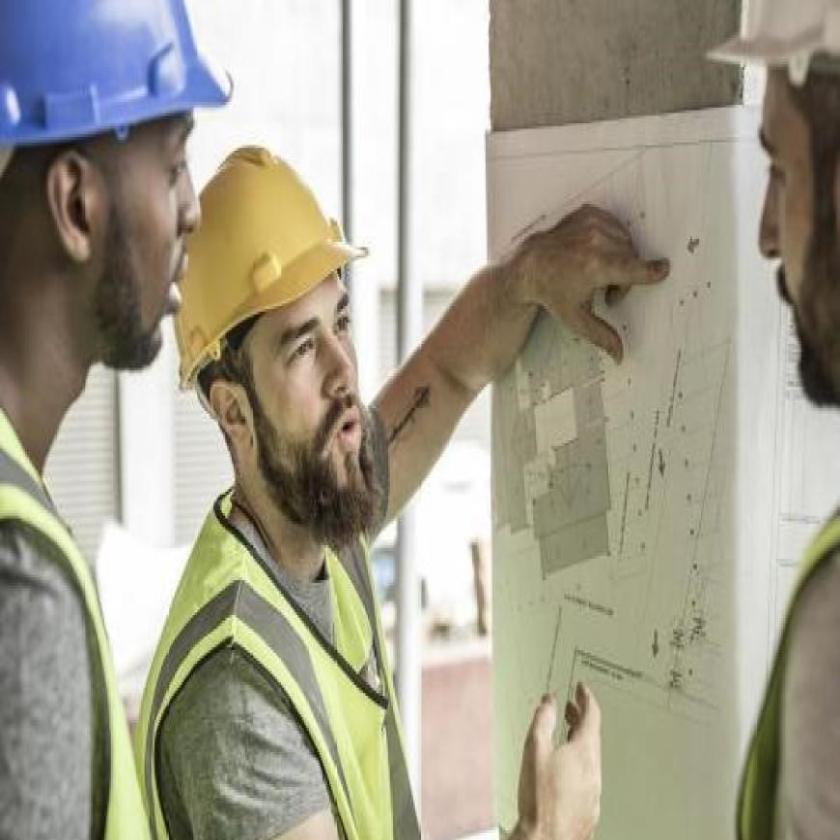Con_casco: (0, 0, 237, 405), (168, 137, 378, 532)
